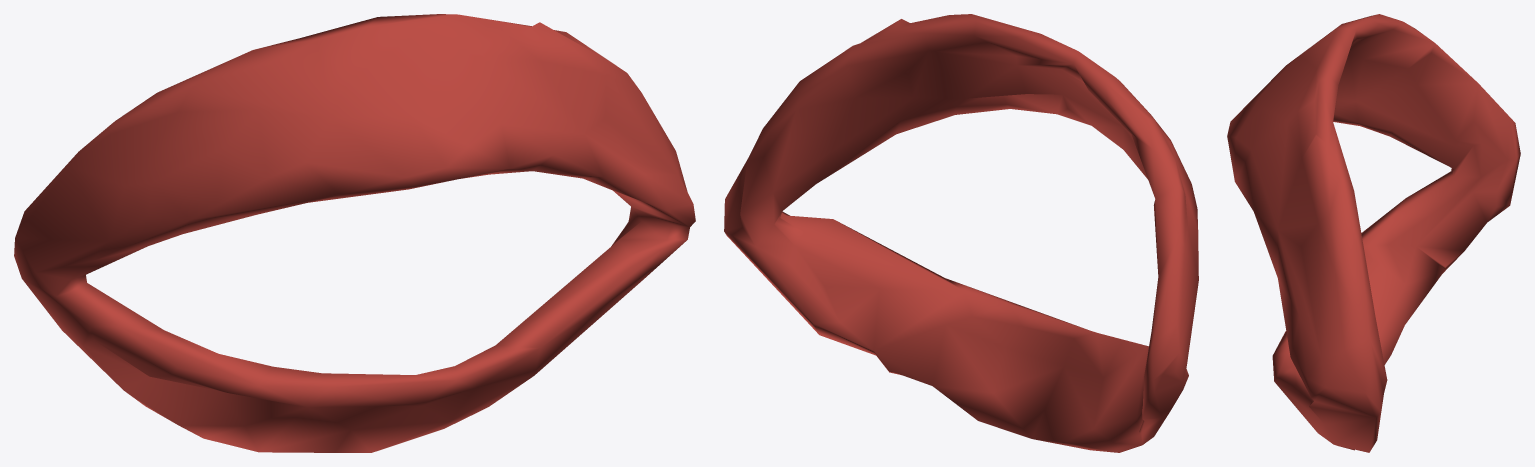
File: musculos-palpebral-part-of-orbicularis-oculi-r.glb
3 views of the same model, side by side, from view 1: azimuth 30°, elevation 25°; view 2: azimuth 150°, elevation 25°; view 3: azimuth 270°, elevation 25° (orthographic). The views are drawn at different scales.
Parts seen in each view (by area): view 1: Palpebral part of orbicularis oculi.r; view 2: Palpebral part of orbicularis oculi.r; view 3: Palpebral part of orbicularis oculi.r.
Boxes of the visible parts, x1,y1,x2,y2 form: Palpebral part of orbicularis oculi.r: (14,14,695,452); Palpebral part of orbicularis oculi.r: (724,14,1198,452); Palpebral part of orbicularis oculi.r: (1227,14,1520,452).
Size of the model in its own units: 0.0336 by 0.0241 by 0.0172.
